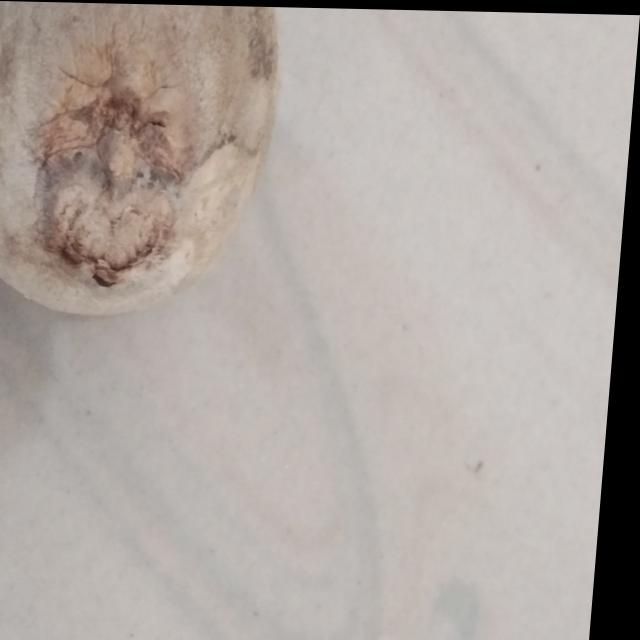phatora: (0, 0, 288, 357)
